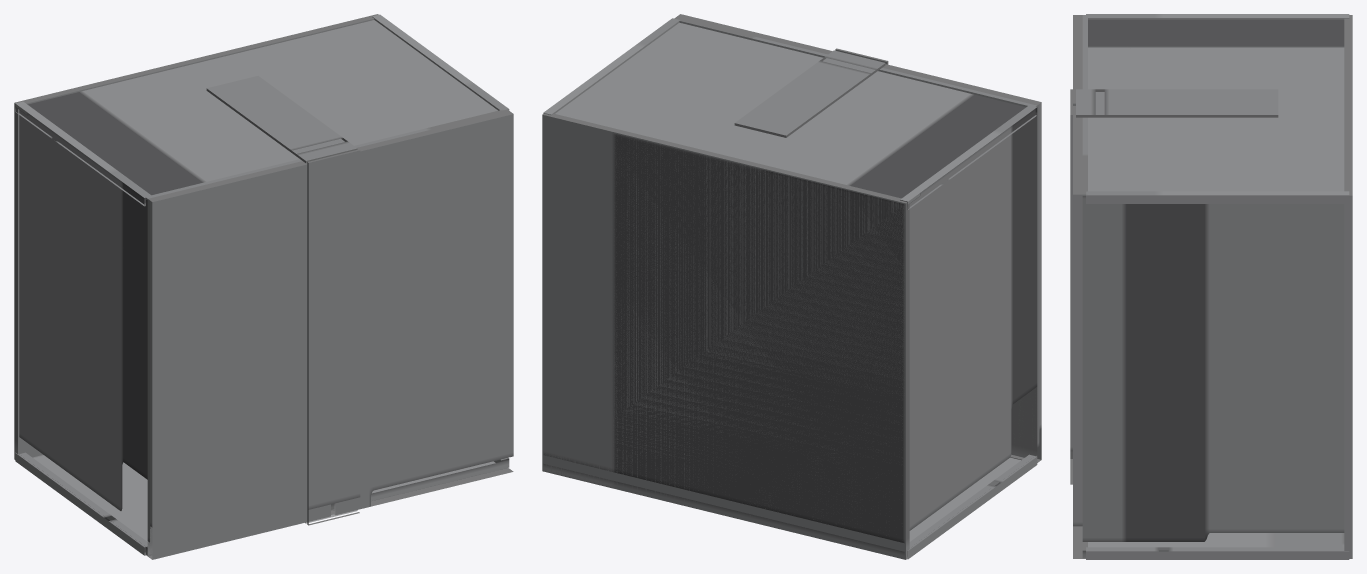
The picture shows the model from 3 angles, left to right: view 1: azimuth 30°, elevation 25°; view 2: azimuth 150°, elevation 25°; view 3: azimuth 270°, elevation 25°; orthographic projection.
Size of the model in its own units: 0.636 by 0.604 by 0.418.
